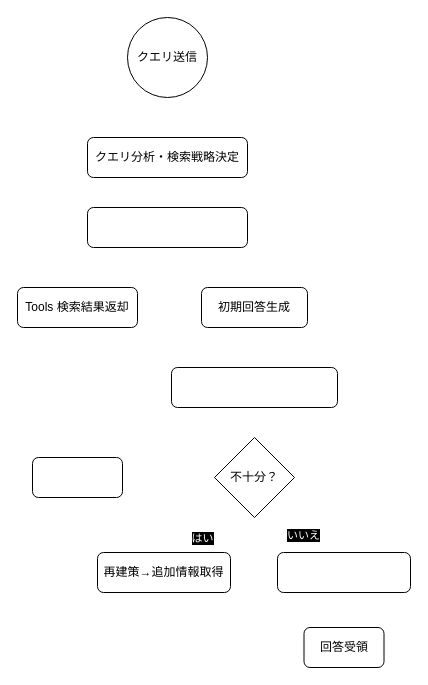
Image size: 428x685. Some labels were removed from this diagram. The centre of each missing label's shape, as x and y in pixels:
回答の妥当性・根拠を評価: point (254, 387)
外部ソース検索 DB・ベクタ検索・Web等: point (167, 227)
改善回答生成: point (77, 477)
最終回答をUserへ返却: point (343, 572)
